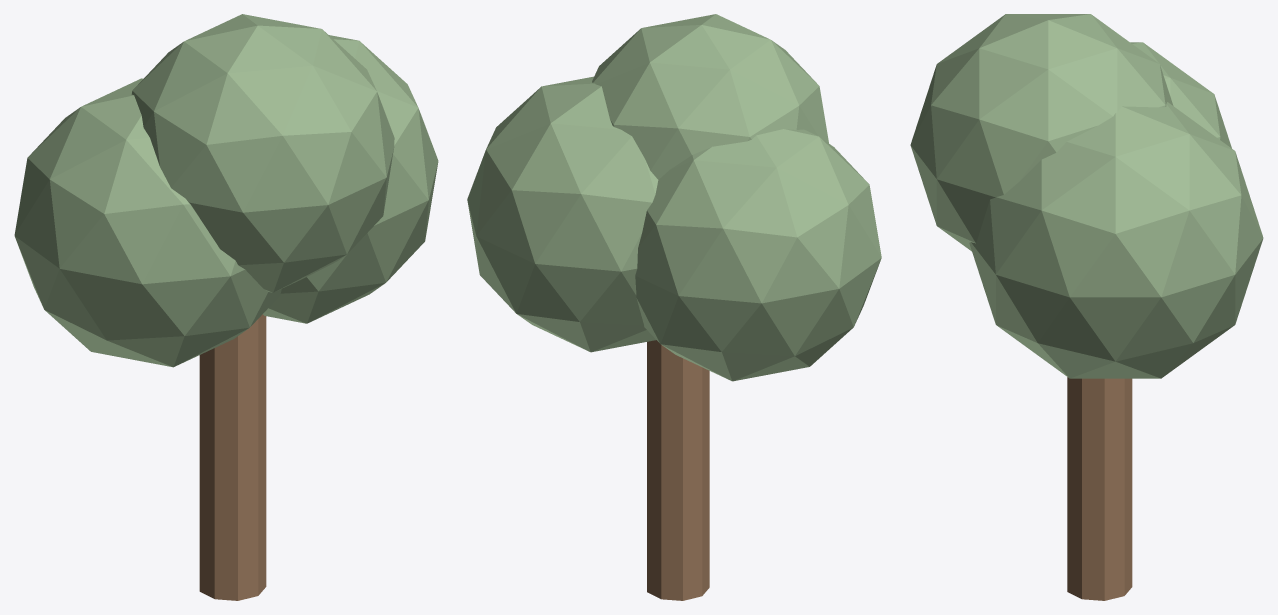
File: round-tree.glb
The picture shows the model from 3 angles, left to right: view 1: azimuth 30°, elevation 25°; view 2: azimuth 150°, elevation 25°; view 3: azimuth 270°, elevation 25°; orthographic projection. The views are drawn at different scales.
Parts seen in each view (by area): view 1: Round leafy crown.002, Round leafy crown, Round tree trunk, Round leafy crown.001; view 2: Round leafy crown, Round leafy crown.001, Round leafy crown.002, Round tree trunk; view 3: Round leafy crown.001, Round leafy crown.002, Round tree trunk, Round leafy crown.
Part boxes in pixels (x1,y1,x2,y2): Round leafy crown.002: (131,14,394,292); Round leafy crown: (14,78,281,367); Round tree trunk: (199,314,266,600); Round leafy crown.001: (263,35,438,323); Round leafy crown: (635,129,881,381); Round leafy crown.001: (467,76,658,352); Round leafy crown.002: (592,14,828,179); Round tree trunk: (647,340,709,600); Round leafy crown.001: (969,102,1263,378); Round leafy crown.002: (910,14,1173,251); Round tree trunk: (1067,377,1132,600); Round leafy crown: (1130,42,1231,148).
Bounding box in the file's own units: 2.6 × 3.72 × 2.1.
